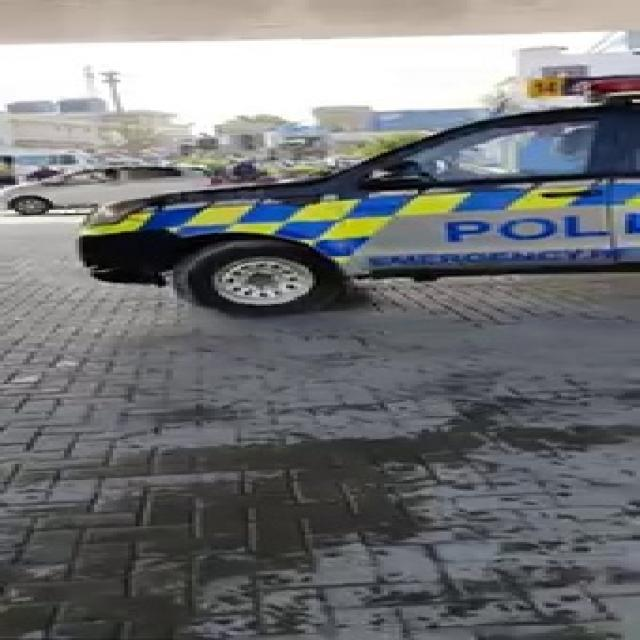police: (102, 48, 636, 344)
